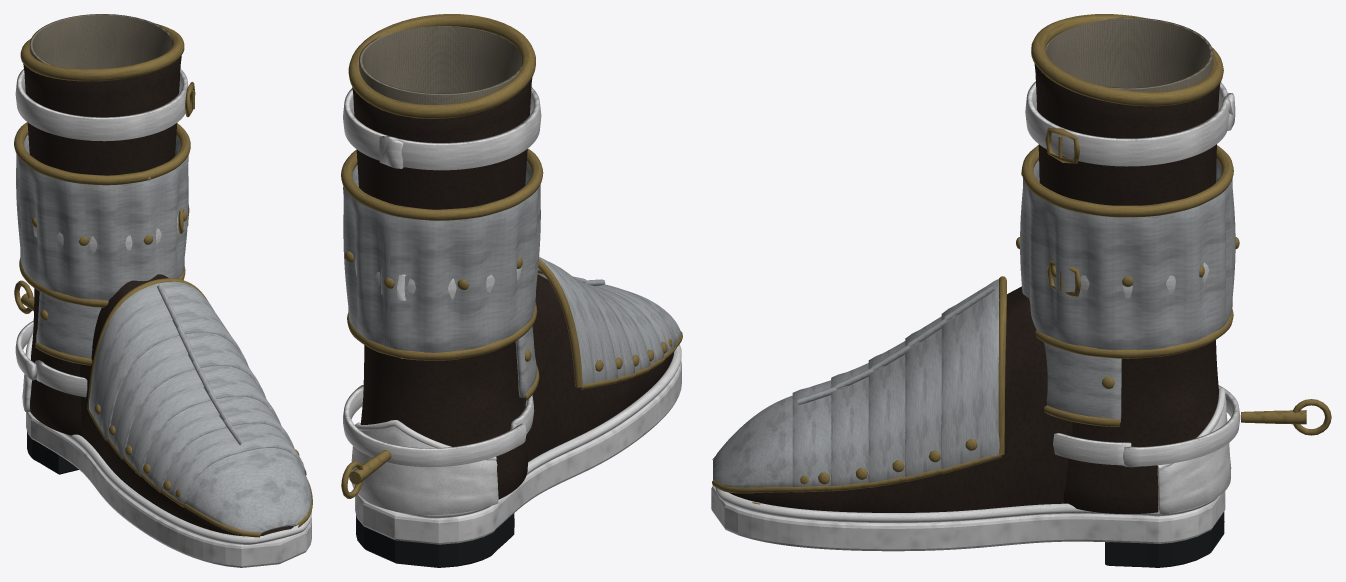
3 renders of one model, left to right at view 1: azimuth 30°, elevation 25°; view 2: azimuth 150°, elevation 25°; view 3: azimuth 270°, elevation 25°, orthographic. The views are drawn at different scales.
Visible parts, largest first — view 1: polished fluted plate, tanned leather, oiled strap leather, aged alloy edge, quilted linen lining, recess and lining; view 2: polished fluted plate, tanned leather, oiled strap leather, aged alloy edge, quilted linen lining, recess and lining; view 3: polished fluted plate, tanned leather, oiled strap leather, aged alloy edge, quilted linen lining, recess and lining.
Part boxes in pixels (x1,y1,x2,y2): polished fluted plate: (16,134,311,533); tanned leather: (23,55,293,536); oiled strap leather: (15,69,311,567); aged alloy edge: (14,23,312,537); quilted linen lining: (29,14,172,69); recess and lining: (27,431,78,474); polished fluted plate: (343,162,681,397); tanned leather: (352,77,673,499); oiled strap leather: (343,87,681,544); aged alloy edge: (341,14,682,498); quilted linen lining: (359,26,521,104); recess and lining: (356,513,514,567); polished fluted plate: (713,160,1235,487); tanned leather: (728,63,1220,513); oiled strap leather: (711,81,1240,551); aged alloy edge: (712,14,1331,493); quilted linen lining: (1045,17,1213,91); recess and lining: (1105,512,1224,567).
Bounding box in the file's own units: 0.1099 × 0.2899 × 0.3308.
Materials: 8 (5 with a texture image).
